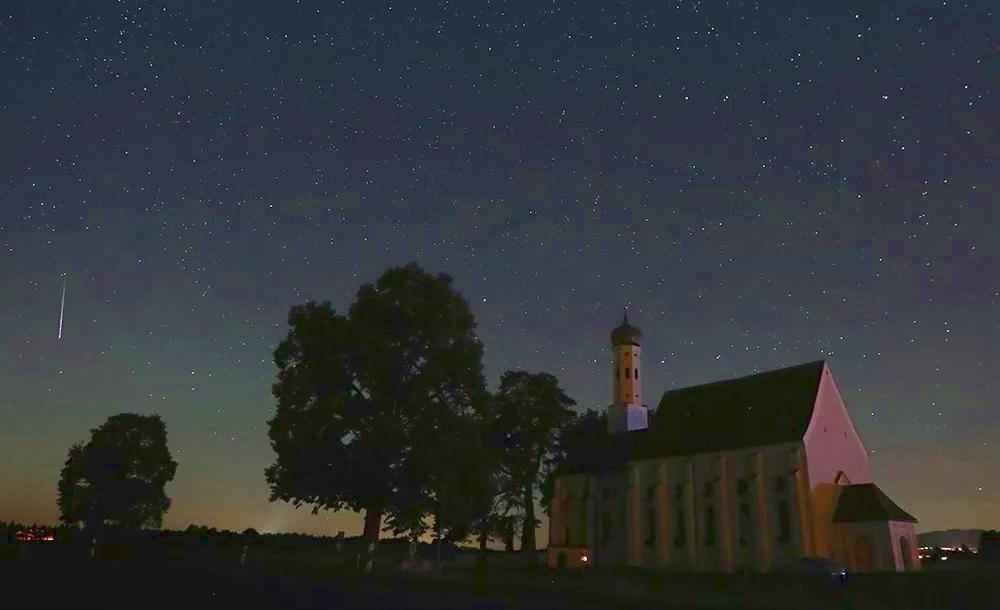meteorite: (48, 267, 75, 346)
